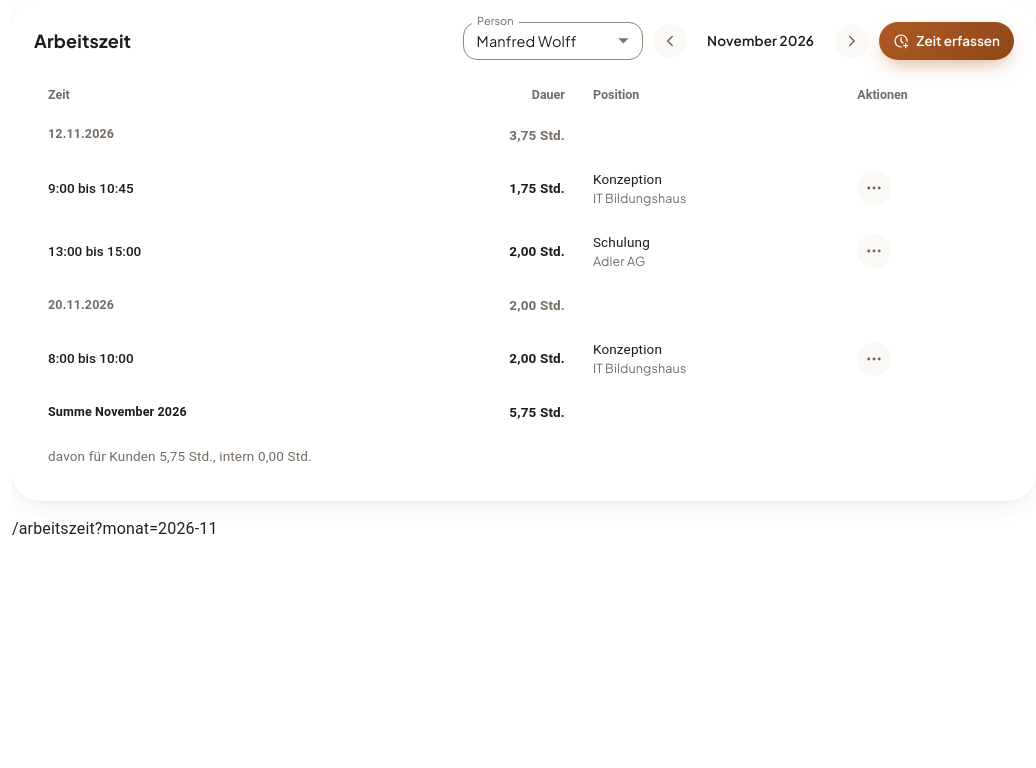
it: ArbeitszeitPage (Kriterium 5, Plan A13, A20) › laedt den Folgemonat und schreibt ihn in die Adresse
This screenshot has width=1036, height=768.
Click the button named "Nächster Monat" at (852, 41), box top-left (835, 24), bottom-right (869, 58)
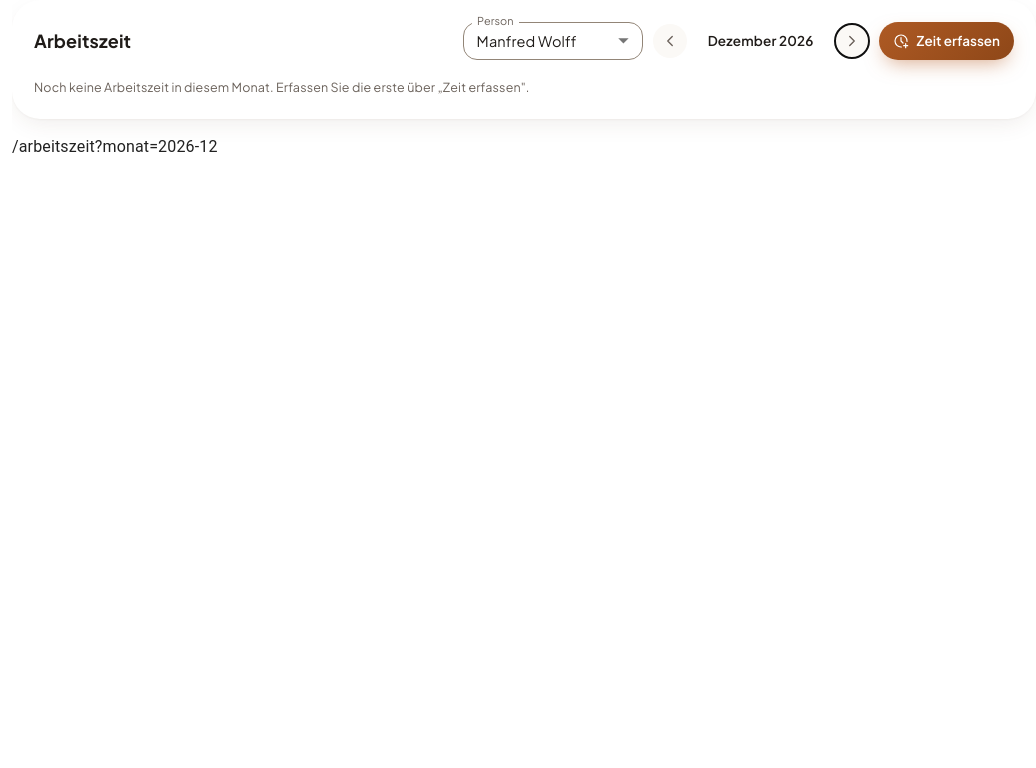
Now the text with test id "adresse" reads "/arbeitszeit?monat=2026-12", box top-left (12, 137), bottom-right (218, 156)
